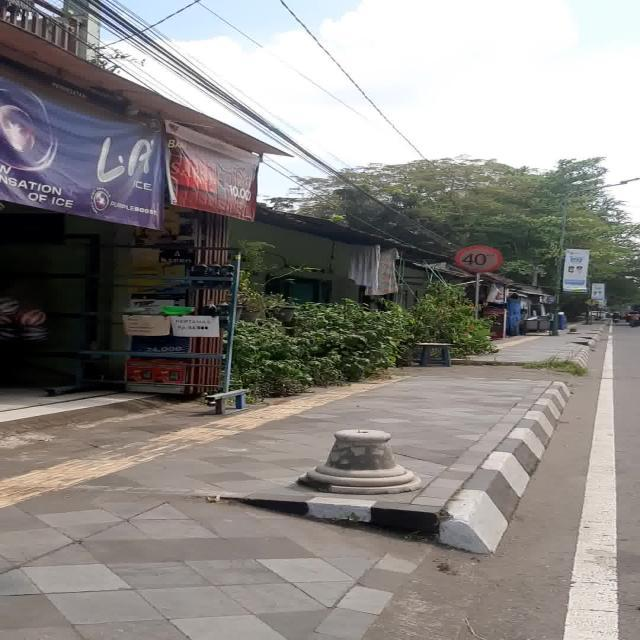Kecepatan Maks. 40 km: (454, 245, 502, 272)
